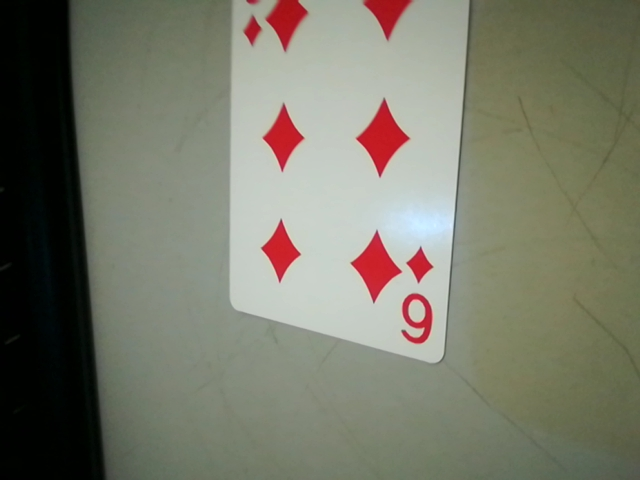fk 6: (393, 240, 445, 355)
